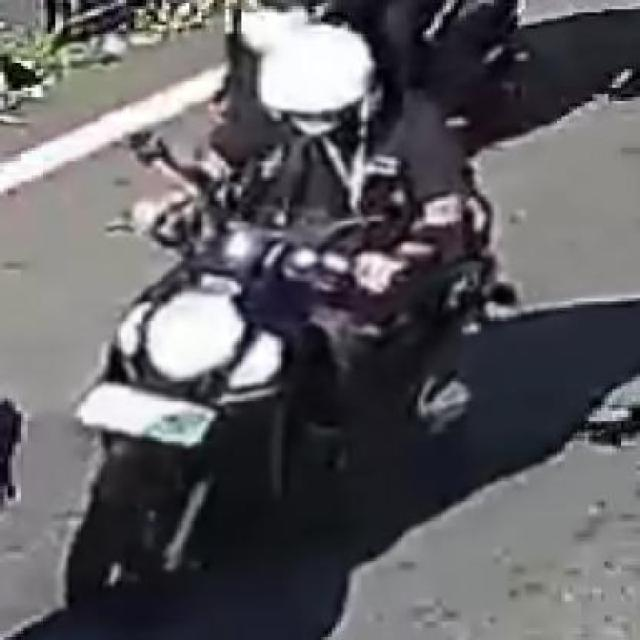helmet: (256, 28, 395, 146)
motorcycle: (43, 17, 520, 640)
